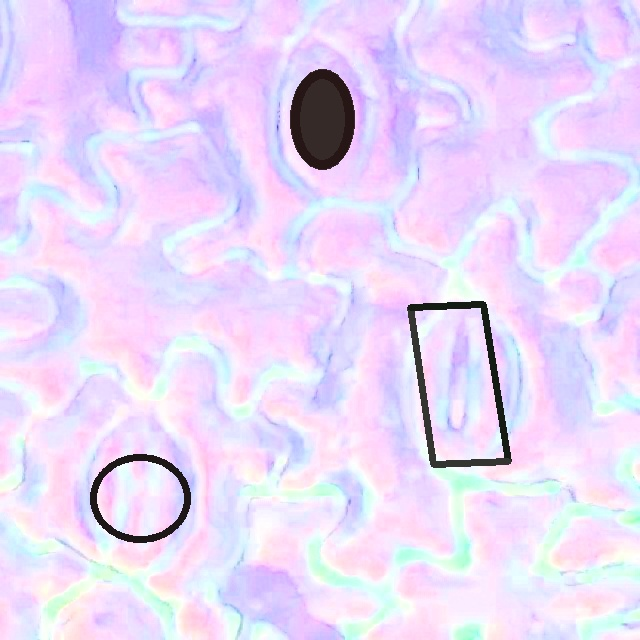close: (90, 453, 190, 542), (289, 69, 354, 169)
open: (408, 301, 510, 466)
